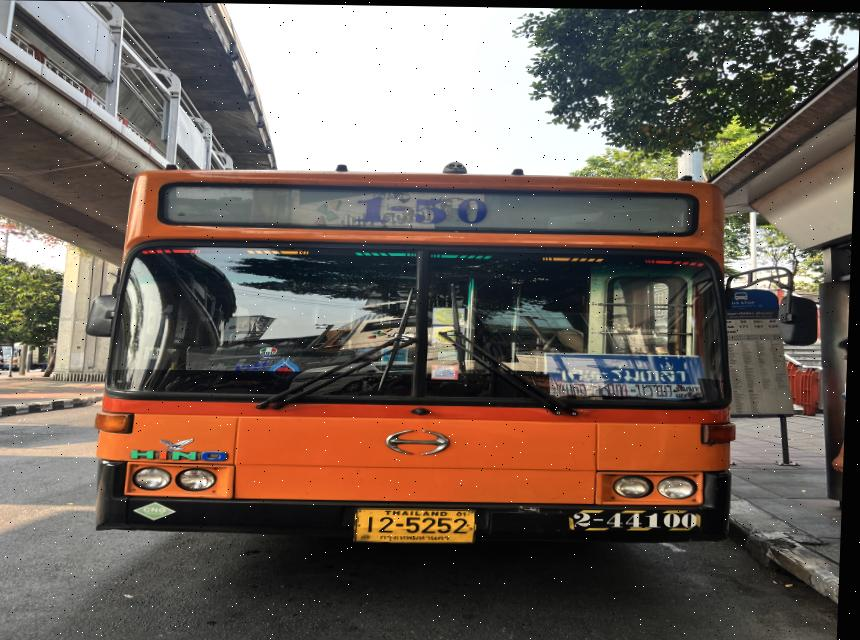BMTA-bus: (98, 170, 740, 546)
Bus Line Number: (351, 189, 499, 228)
Bus Side Number: (570, 505, 711, 528)
Destination Sign: (547, 351, 714, 400)
